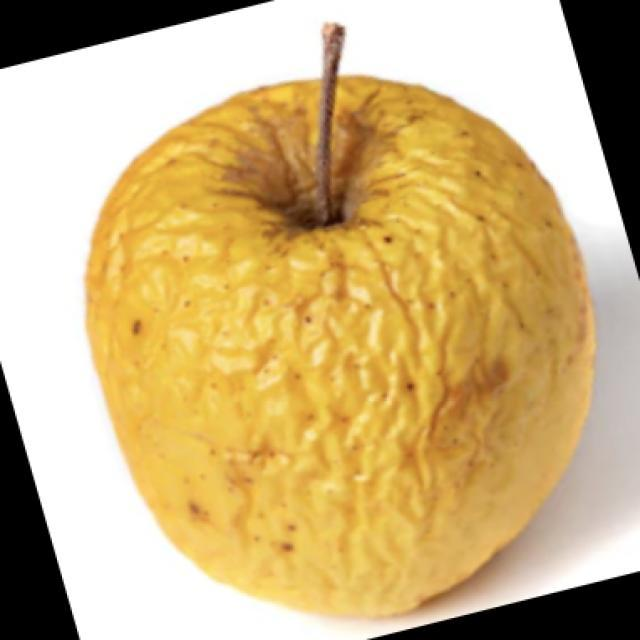Rotten: (85, 90, 562, 598)
